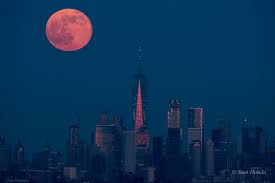moon: (44, 6, 93, 55)
